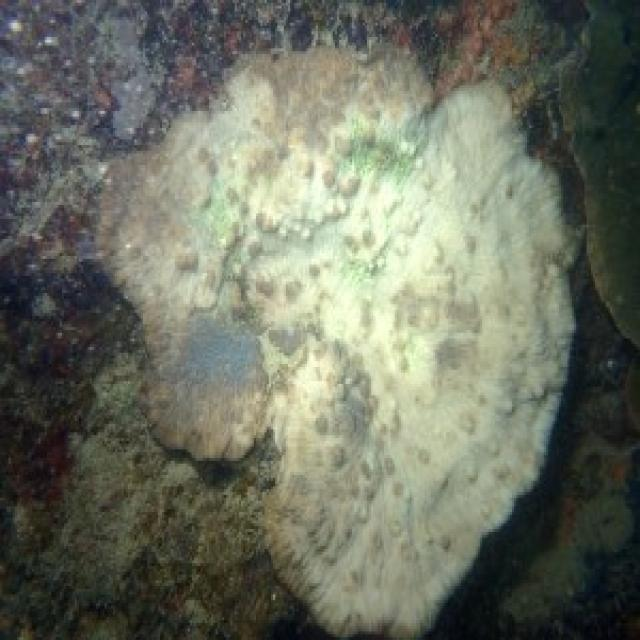Bleached: (98, 45, 582, 640)
